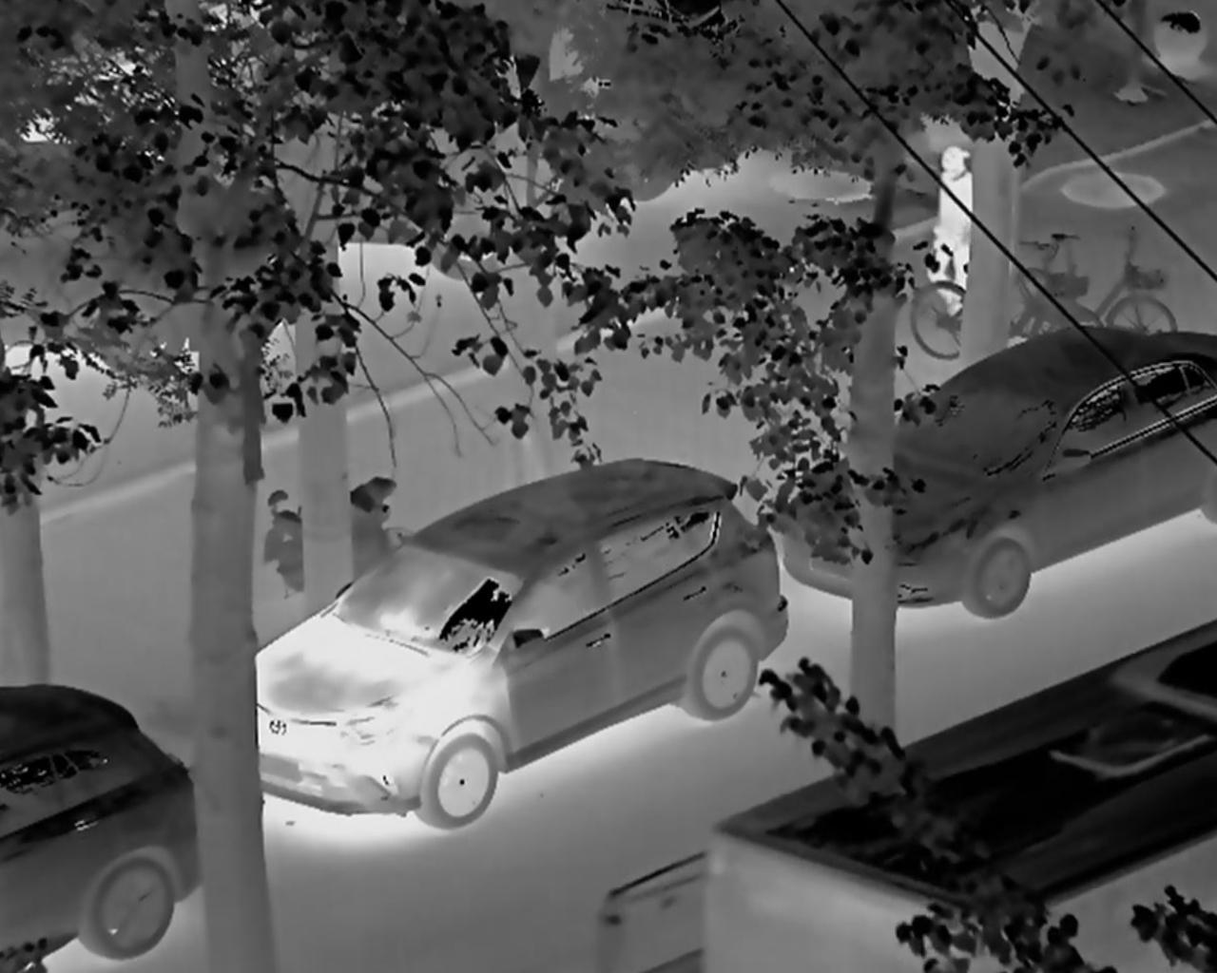person: (930, 143, 975, 332)
